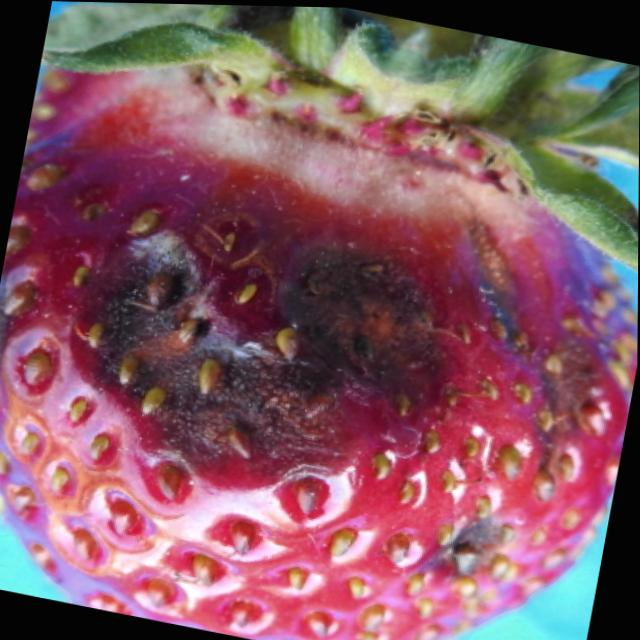Anthracnose Fruit Rot: (0, 182, 619, 584)
